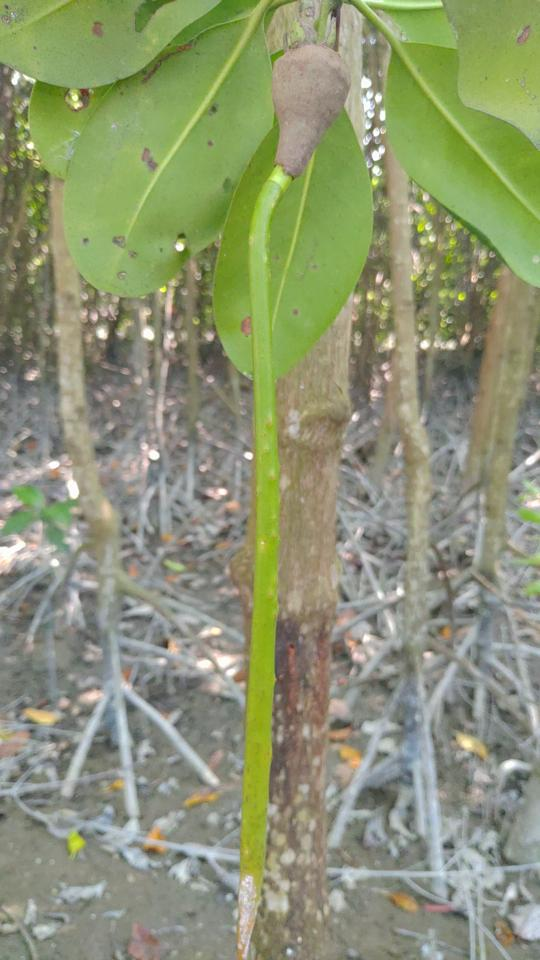setengah matang: (217, 23, 359, 949)
